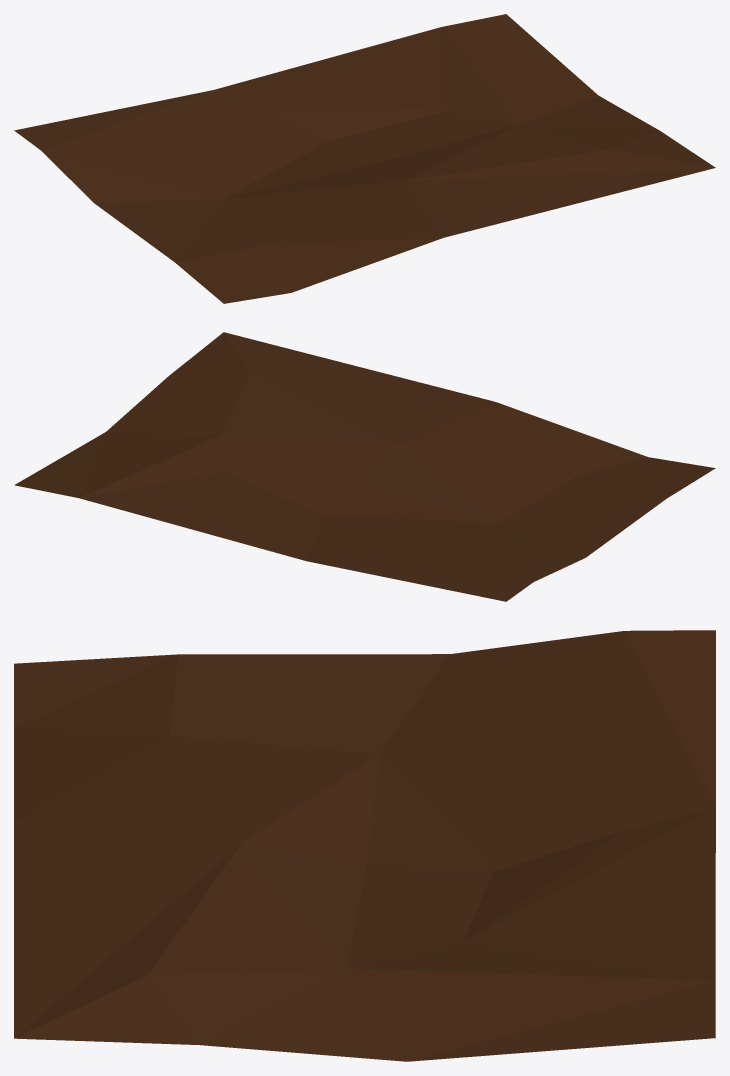
Rendered from Soil.fbx.
The picture shows the model from 3 angles, top to bottom: view 1: azimuth 30°, elevation 25°; view 2: azimuth 150°, elevation 25°; view 3: azimuth 270°, elevation 25°; orthographic projection. The views are drawn at different scales.
Parts seen in each view (by area): view 1: Soil; view 2: Soil; view 3: Soil.
Boxes of the visible parts, x1,y1,x2,y2 form: Soil: (14,14,715,303); Soil: (14,332,715,601); Soil: (14,630,715,1061).
Size of the model in its own units: 44.94 by 2.33 by 33.16.
